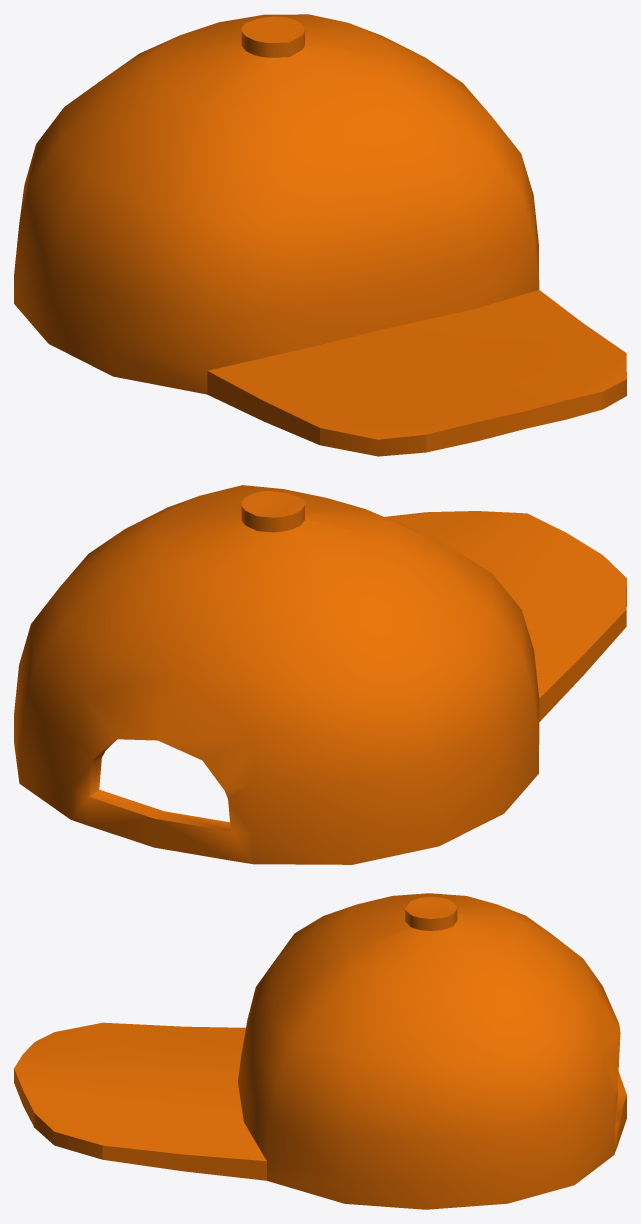
The model's file is KK Topi.fbx.
3 views of the same model, one above another, from view 1: azimuth 30°, elevation 25°; view 2: azimuth 150°, elevation 25°; view 3: azimuth 270°, elevation 25° (orthographic). The views are drawn at different scales.
Visible parts, largest first — view 1: KK Topi Basic; view 2: KK Topi Basic; view 3: KK Topi Basic.
Part boxes in pixels (bbox=[...]): KK Topi Basic: bbox=[14, 14, 626, 456]; KK Topi Basic: bbox=[14, 485, 626, 864]; KK Topi Basic: bbox=[14, 893, 626, 1209].
Bounding box in the file's own units: 57.09 × 30.7 × 81.
